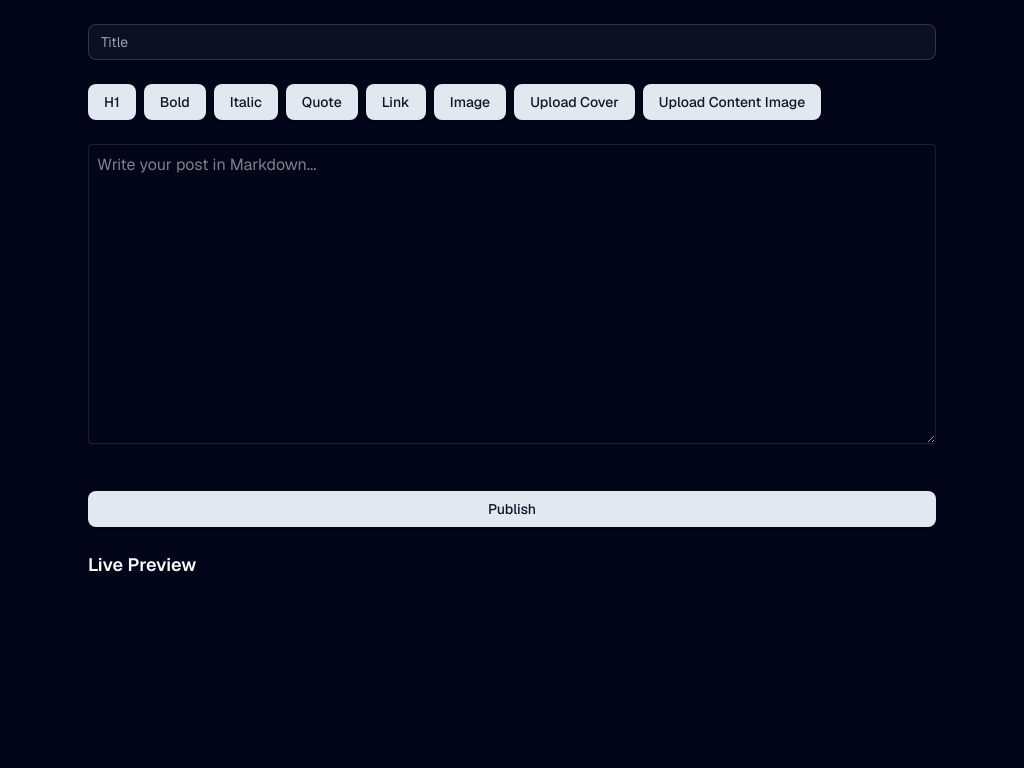
it: CreatePostPage › shows error modal with error message when publish fails
The image size is (1024, 768).
Click the button "Publish". click: (512, 509)
box: [88,491,936,527]
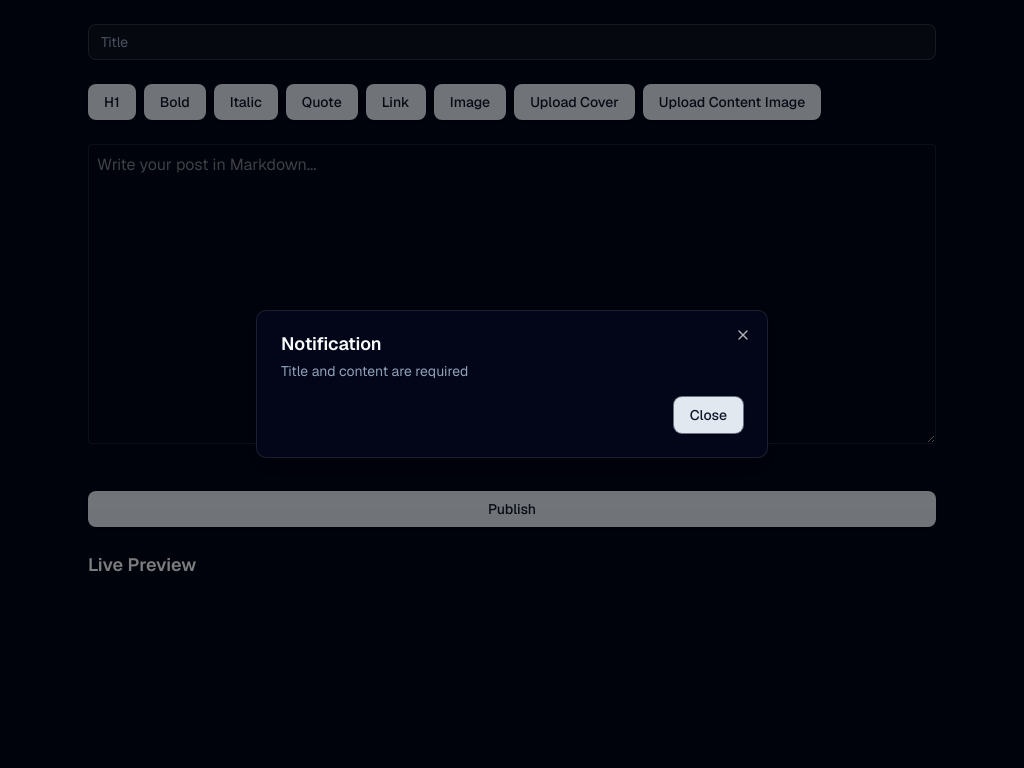
Check: the dialog is shown, box [256,310,768,458]
